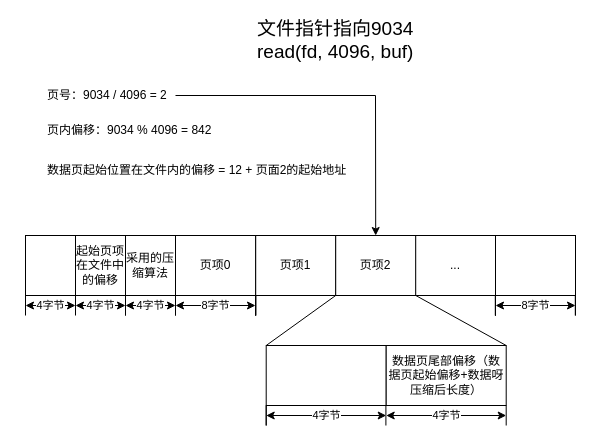
The diagram is 602 pixels wide and 444 high, and some of its shapes have lost their labels. The shapes that lost their labels are listed below. From the top down, each one's box as (x1, y1, x2, y2) in pixels, then its label:
(24, 234, 76, 296): 页数
(494, 234, 576, 296): 页项n
(265, 344, 386, 406): 数据页起始偏移
